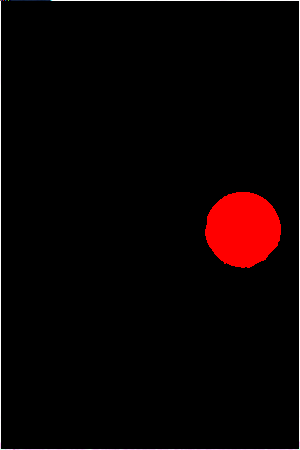stamp: (205, 191, 280, 265)
